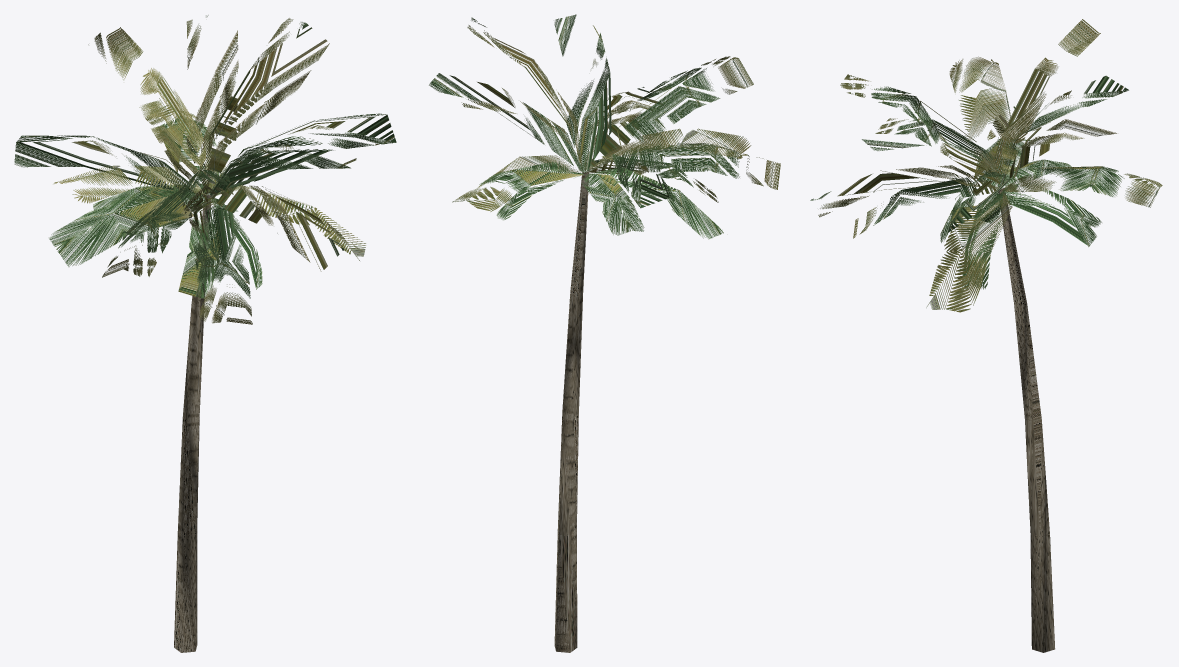
File: palm.glb
The picture shows the model from 3 angles, left to right: view 1: azimuth 30°, elevation 25°; view 2: azimuth 150°, elevation 25°; view 3: azimuth 270°, elevation 25°; orthographic projection.
Parts seen in each view (by area): view 1: polySurface1; view 2: polySurface1; view 3: polySurface1.
Part boxes in pixels (bbox=[...]): polySurface1: bbox=[14, 15, 396, 652]; polySurface1: bbox=[429, 14, 780, 652]; polySurface1: bbox=[810, 19, 1162, 652].
Size of the model in its own units: 4.74 by 8.5 by 4.53.
2 materials, 2 textured.
